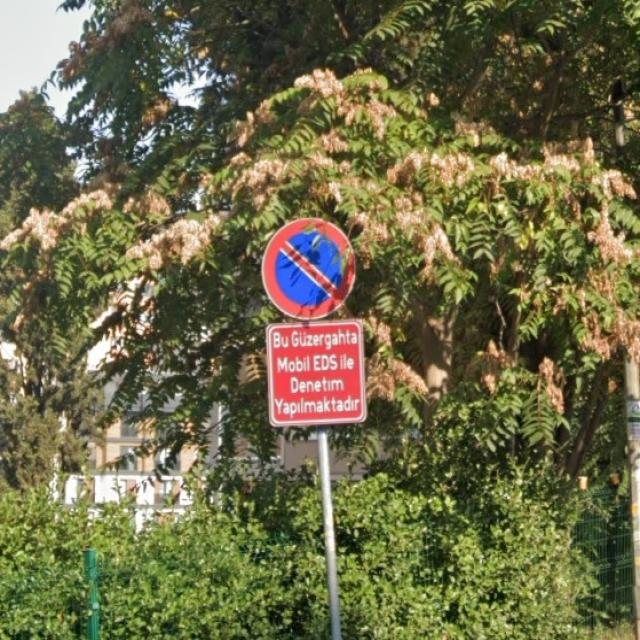parkyasak: (262, 217, 355, 319)
